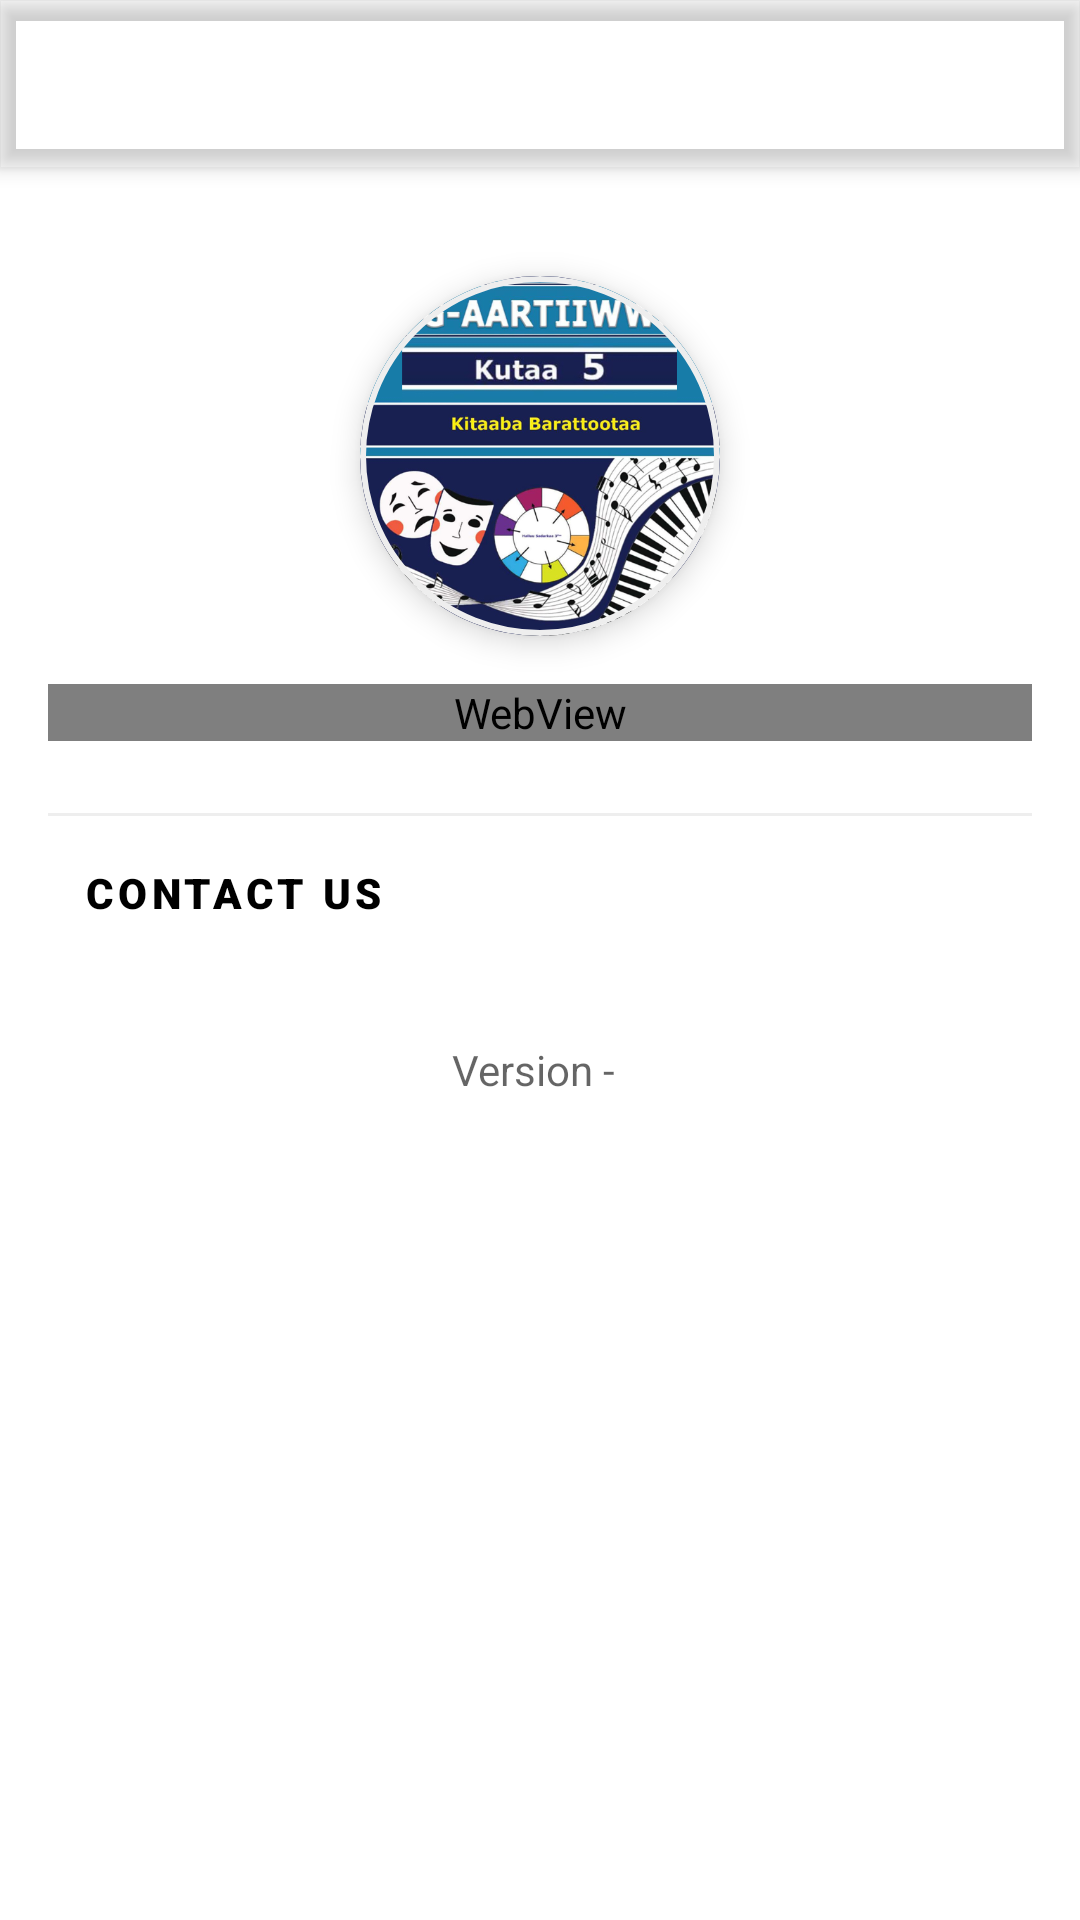

Screen size 1080px×1920px. Icon name, then its box in pixels as (x1, y1, x2, y2):
App icon: (360, 276, 720, 636)
